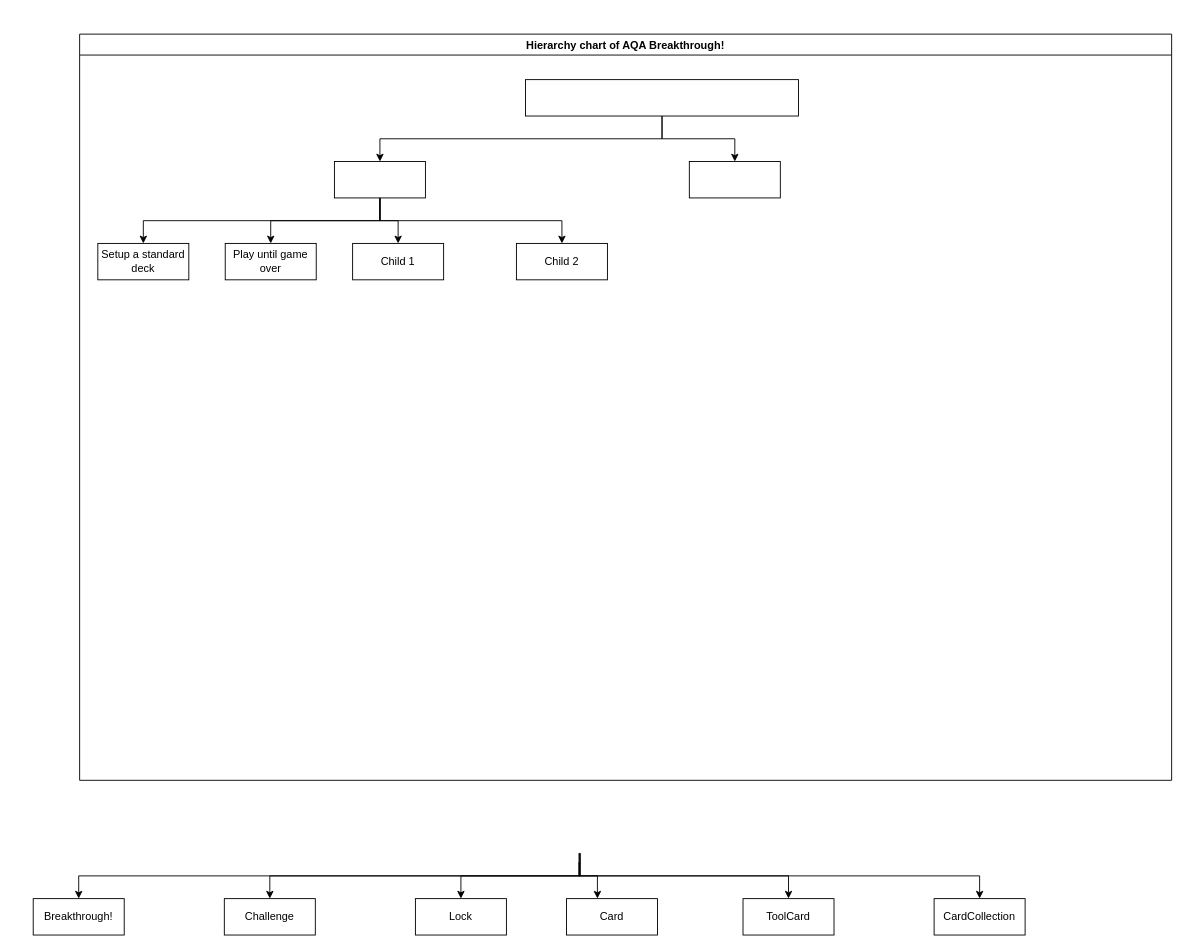
This 1188x951 diagram has some shape labels left out. The shapes that lost their labels are listed below. From the top down, each one's centre as x and y in pixels, then its label:
At (x=662, y=97): "AQA Breakthrough!".
At (x=379, y=179): "Play a new game".
At (x=734, y=179): "Load game from the file".
